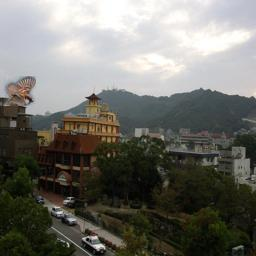Sparrow: (3, 76, 36, 106)
